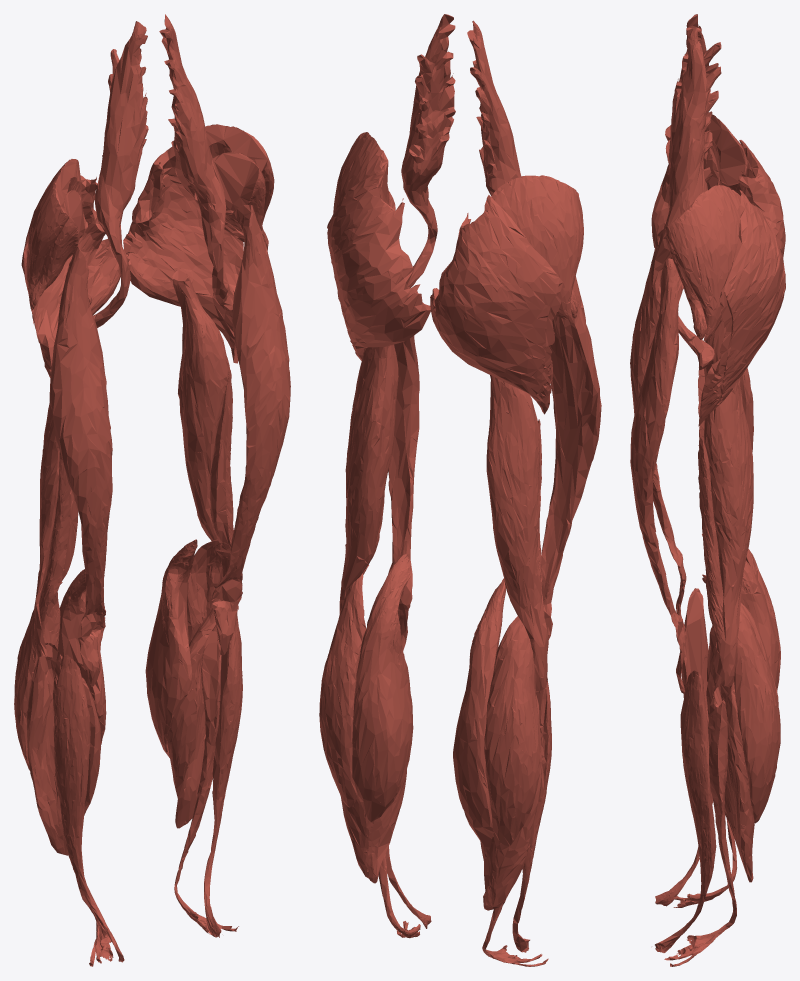
Rendered from human_muscles_hip_leg.glb.
The picture shows the model from 3 angles, left to right: view 1: azimuth 30°, elevation 25°; view 2: azimuth 150°, elevation 25°; view 3: azimuth 270°, elevation 25°; orthographic projection. The views are drawn at different scales.
Visible parts, largest first — view 1: rectus_femoris_R, rectus_femoris_L, gluteus_maximus_L, biceps_femoris_long_head_L, psoas_major_R, psoas_major_L, tibialis_anterior_R, gastrocnemius_medial_head_L, soleus_R, gluteus_maximus_R, soleus_L, tibialis_anterior_L (+12 smaller); view 2: gluteus_maximus_R, gluteus_maximus_L, biceps_femoris_long_head_R, gastrocnemius_medial_head_L, rectus_femoris_R, gastrocnemius_lateral_head_R, biceps_femoris_long_head_L, psoas_major_L, gastrocnemius_medial_head_R, gluteus_medius_R, gastrocnemius_lateral_head_L, rectus_femoris_L (+7 smaller); view 3: gluteus_maximus_L, biceps_femoris_long_head_L, rectus_femoris_L, psoas_major_L, gluteus_medius_L, gastrocnemius_lateral_head_L, tibialis_anterior_L, tibialis_posterior_L, soleus_L, rectus_femoris_R, biceps_femoris_short_head_L, tibialis_anterior_R (+10 smaller).
Part boxes in pixels (box(x1,y1,x2,y2)): rectus_femoris_R: box(49, 246, 112, 686); rectus_femoris_L: box(211, 204, 290, 655); gluteus_maximus_L: box(123, 146, 243, 363); biceps_femoris_long_head_L: box(172, 268, 238, 609); psoas_major_R: box(93, 21, 148, 327); psoas_major_L: box(159, 14, 233, 310); tibialis_anterior_R: box(54, 654, 124, 962); gastrocnemius_medial_head_L: box(145, 539, 197, 757); soleus_R: box(26, 642, 100, 855); gluteus_maximus_R: box(21, 175, 120, 377); soleus_L: box(167, 608, 217, 828); tibialis_anterior_L: box(204, 614, 242, 937); gluteus_maximus_R: box(430, 195, 564, 414); gluteus_maximus_L: box(327, 169, 430, 360); biceps_femoris_long_head_R: box(486, 375, 548, 691); gastrocnemius_medial_head_L: box(352, 554, 413, 822); rectus_femoris_R: box(541, 276, 601, 639); gastrocnemius_lateral_head_R: box(484, 616, 540, 845); biceps_femoris_long_head_L: box(339, 344, 398, 613); psoas_major_L: box(401, 14, 455, 288); gastrocnemius_medial_head_R: box(453, 578, 505, 850); gluteus_medius_R: box(491, 175, 583, 322); gastrocnemius_lateral_head_L: box(319, 564, 368, 807); rectus_femoris_L: box(388, 191, 419, 650); gluteus_maximus_L: box(698, 190, 785, 426); biceps_femoris_long_head_L: box(704, 378, 753, 686); rectus_femoris_L: box(630, 258, 686, 693); psoas_major_L: box(651, 27, 721, 370); gluteus_medius_L: box(665, 185, 740, 341); gastrocnemius_lateral_head_L: box(734, 612, 780, 823); tibialis_anterior_L: box(655, 670, 716, 952); tibialis_posterior_L: box(664, 687, 736, 966); soleus_L: box(718, 682, 754, 882); rectus_femoris_R: box(630, 231, 686, 629); biceps_femoris_short_head_L: box(698, 429, 723, 647); tibialis_anterior_R: box(655, 588, 713, 906).
Bounding box in the file's own units: 0.1772 × 0.6587 × 0.102.
